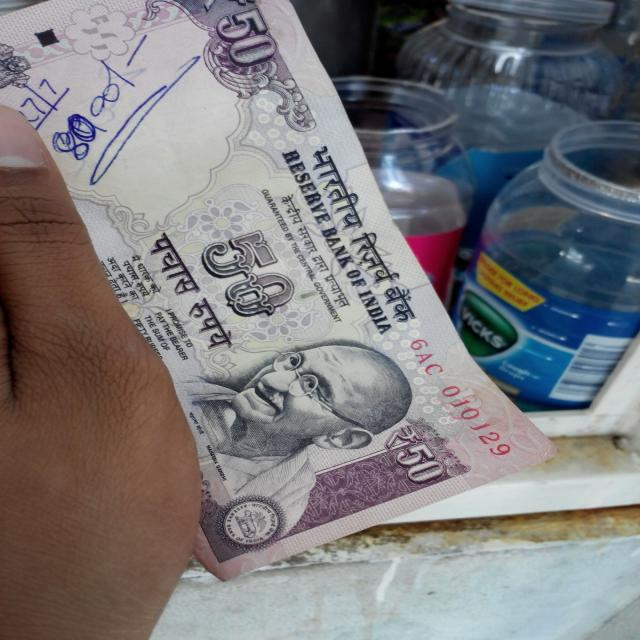50rs: (0, 0, 567, 583)
